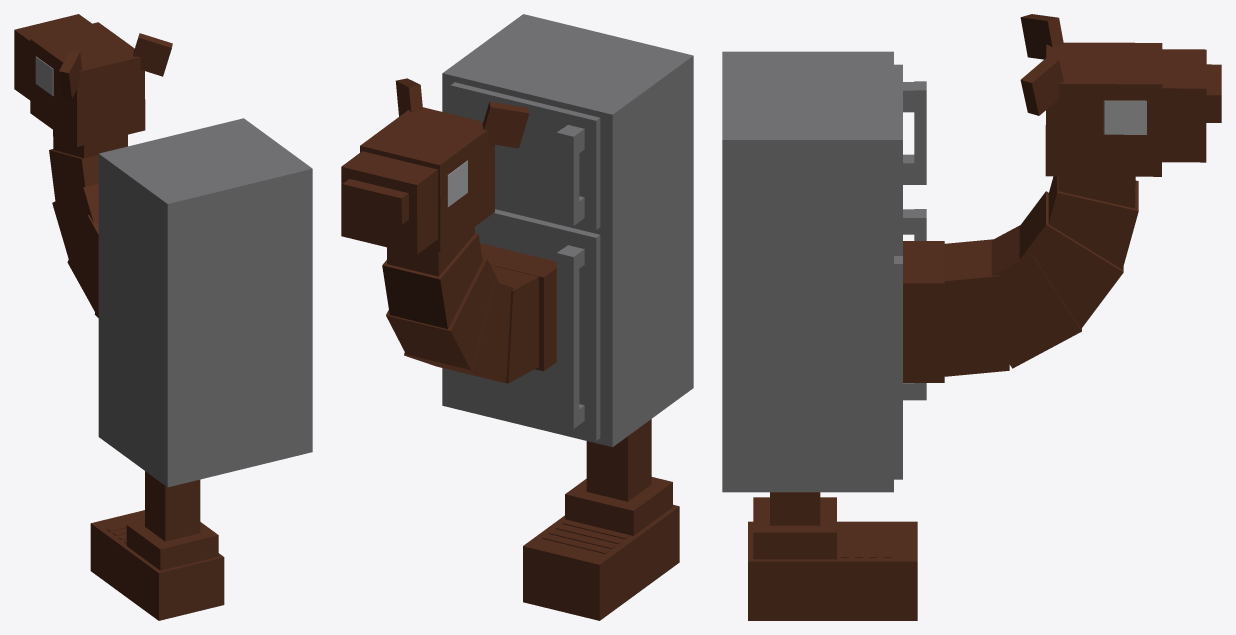
The model's file is holodilnik.fbx.
The picture shows the model from 3 angles, left to right: view 1: azimuth 30°, elevation 25°; view 2: azimuth 150°, elevation 25°; view 3: azimuth 270°, elevation 25°; orthographic projection. The views are drawn at different scales.
Parts seen in each view (by area): view 1: Frigo Camelo, Frigo Camelo.002, Frigo Camelo.001; view 2: Frigo Camelo, Frigo Camelo.002, Frigo Camelo.001; view 3: Frigo Camelo, Frigo Camelo.002, Frigo Camelo.001.
Part boxes in pixels (x1,y1,x2,y2): Frigo Camelo: (98,118,312,487); Frigo Camelo.002: (14,14,172,317); Frigo Camelo.001: (90,471,224,620); Frigo Camelo: (442,14,693,447); Frigo Camelo.002: (341,78,556,383); Frigo Camelo.001: (523,419,679,620); Frigo Camelo: (722,51,926,492); Frigo Camelo.002: (903,14,1221,382); Frigo Camelo.001: (748,492,917,620).
Bounding box in the file's own units: 292 × 903 × 698.
